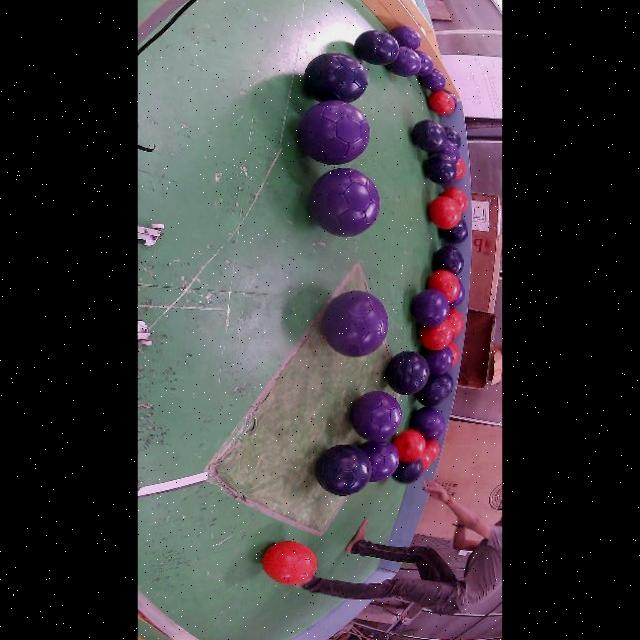B: (304, 52, 367, 102), (315, 445, 371, 497), (384, 351, 428, 395), (353, 31, 399, 65), (411, 119, 446, 152), (423, 152, 456, 185), (415, 375, 446, 407), (432, 246, 463, 275), (391, 460, 423, 484), (438, 218, 467, 244), (443, 127, 461, 149), (438, 373, 453, 397)
P: (309, 168, 378, 237), (297, 101, 368, 165), (323, 290, 387, 357), (349, 390, 401, 441), (358, 441, 397, 482), (410, 289, 448, 327), (385, 46, 420, 76), (410, 407, 442, 437), (422, 346, 452, 375), (389, 26, 420, 50), (418, 69, 446, 92), (438, 140, 459, 164), (415, 50, 433, 76), (424, 418, 444, 441), (448, 282, 465, 308), (442, 89, 457, 111)
R: (261, 541, 316, 584), (391, 430, 424, 463), (418, 319, 452, 351), (428, 195, 459, 230), (427, 270, 458, 303), (427, 90, 454, 116), (441, 187, 467, 213), (446, 308, 463, 338), (447, 341, 459, 366), (424, 440, 438, 461), (454, 157, 465, 180), (419, 449, 430, 471)
